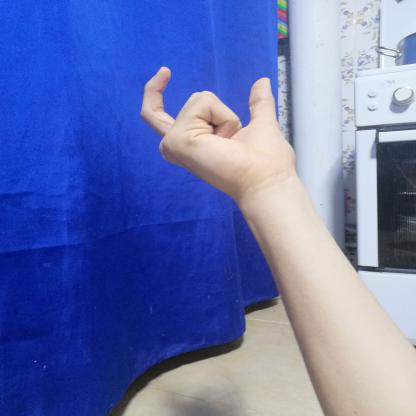NOON: (128, 56, 312, 202)
